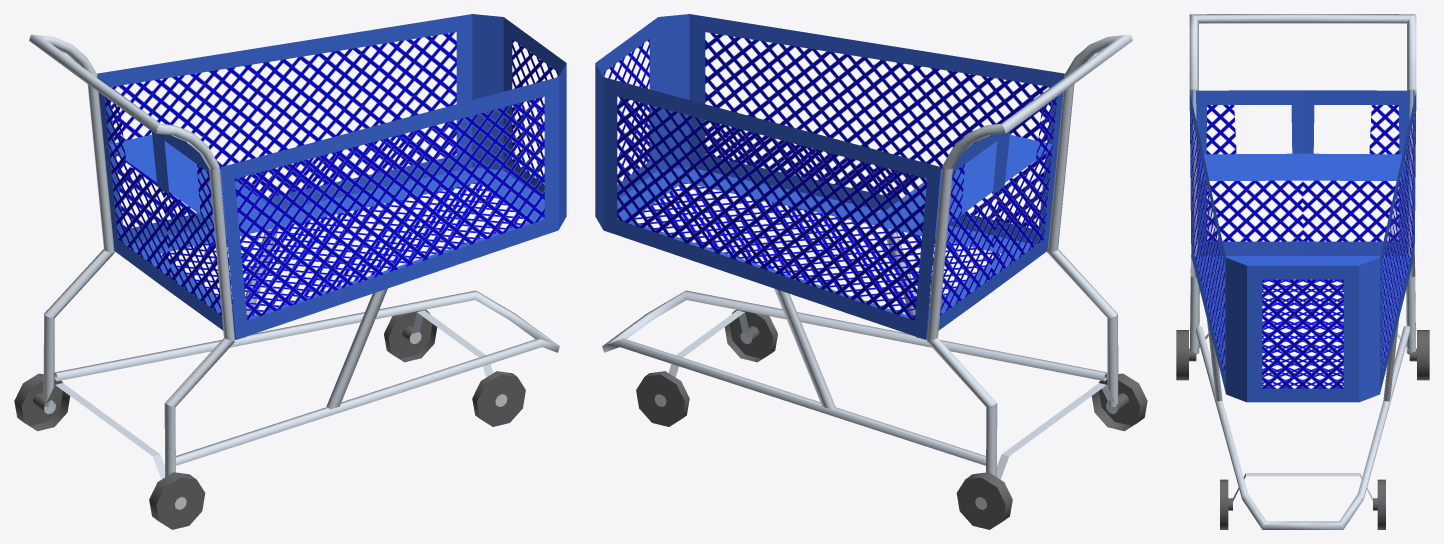
The model's file is altspace_blue_shopping_cart.glb.
3 views of the same model, side by side, from view 1: azimuth 30°, elevation 25°; view 2: azimuth 150°, elevation 25°; view 3: azimuth 270°, elevation 25° (orthographic). The views are drawn at different scales.
Visible parts, largest first — view 1: Material2 (×10), Material3; view 2: Material2 (×10), Material3; view 3: Material2 (×10), Material3.
Part boxes in pixels (x1,y1,x2,y2): Material2 (×10): [14, 14, 566, 529]; Material3: [161, 183, 527, 316]; Material2 (×10): [595, 14, 1147, 529]; Material3: [634, 183, 1000, 316]; Material2 (×10): [1176, 14, 1429, 529]; Material3: [1262, 279, 1343, 388].
Bounding box in the file's own units: 45.45 × 38.28 × 24.71.
Materials: 5 (1 with a texture image).
